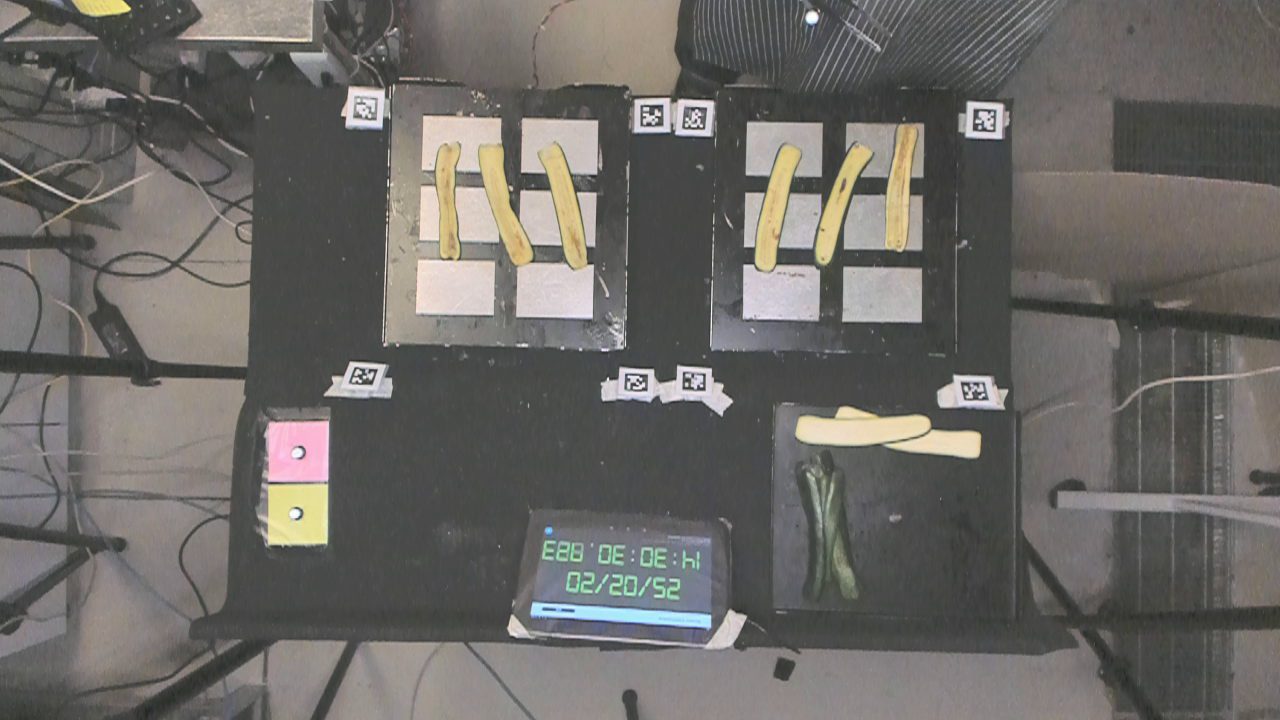marker: (268, 420, 328, 483)
zucchini: (480, 134, 539, 278), (845, 400, 987, 458), (537, 138, 596, 276), (815, 143, 869, 272), (822, 455, 868, 602), (754, 140, 798, 278), (879, 109, 916, 268), (795, 413, 933, 443), (433, 137, 466, 261), (798, 458, 823, 597)
